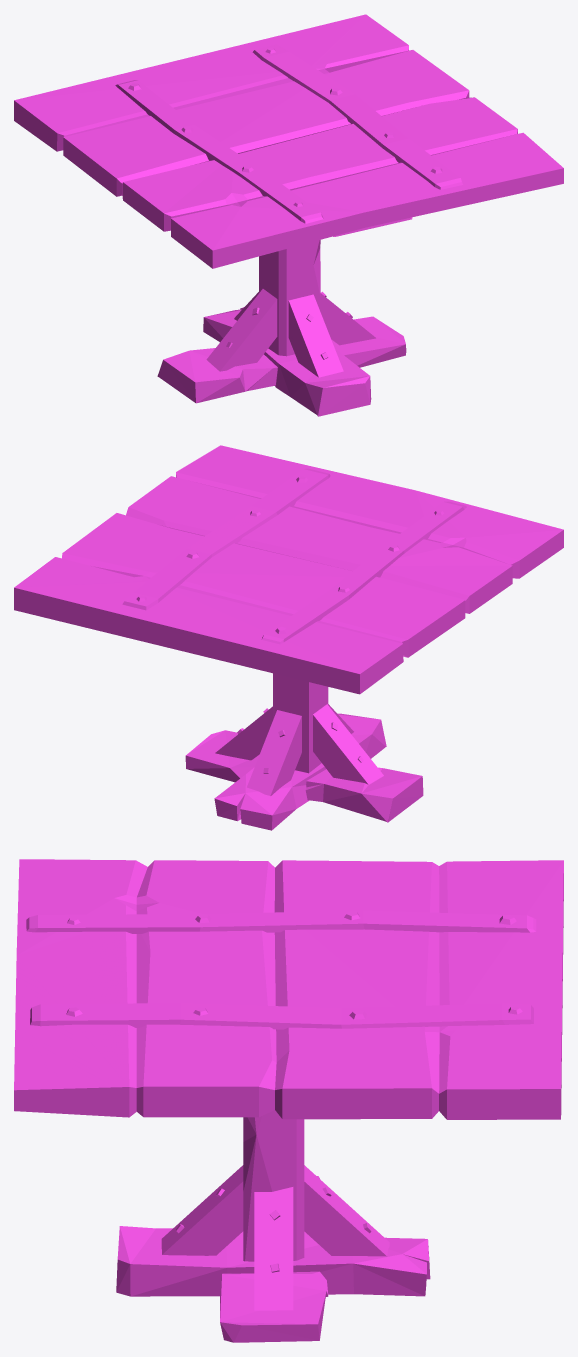
File: SM_Table_Rough_Square_A_Fantasy.fbx
3 views of the same model, one above another, from view 1: azimuth 30°, elevation 25°; view 2: azimuth 150°, elevation 25°; view 3: azimuth 270°, elevation 25° (orthographic). The views are drawn at different scales.
Visible parts, largest first — view 1: SM_Table_Rough_Square_A_Fantasy; view 2: SM_Table_Rough_Square_A_Fantasy; view 3: SM_Table_Rough_Square_A_Fantasy.
Boxes of the visible parts, x1,y1,x2,y2 form: SM_Table_Rough_Square_A_Fantasy: [14, 14, 563, 416]; SM_Table_Rough_Square_A_Fantasy: [14, 445, 563, 830]; SM_Table_Rough_Square_A_Fantasy: [14, 859, 563, 1342].
Bounding box in the file's own units: 1.3 × 0.8237 × 1.3.
